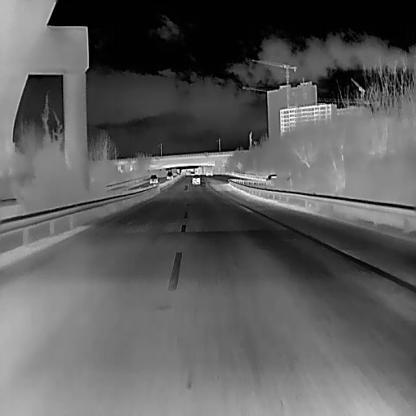car: (265, 173, 276, 185), (148, 174, 158, 183), (191, 174, 200, 184), (205, 167, 213, 175), (166, 171, 173, 179)
